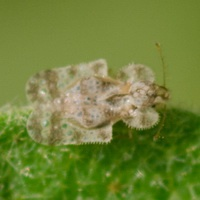insect: (26, 59, 168, 144)
